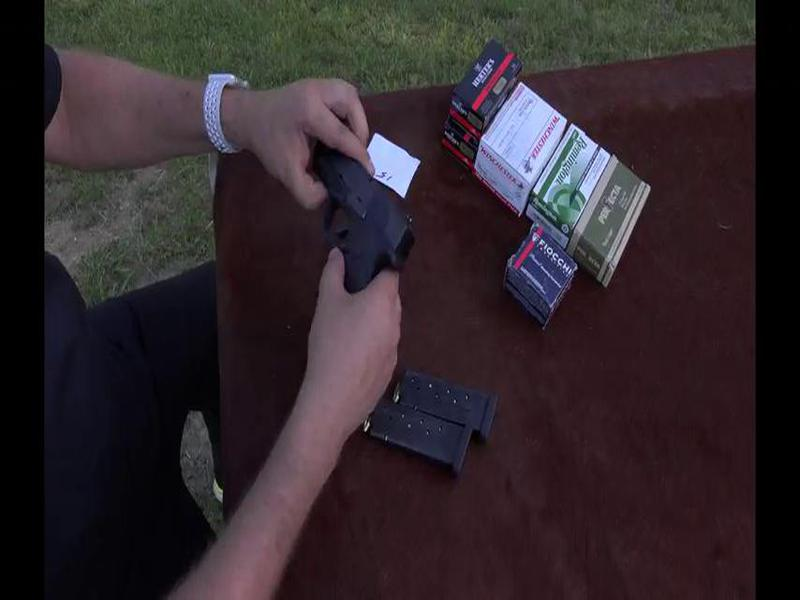Pistola: (306, 140, 408, 286)
